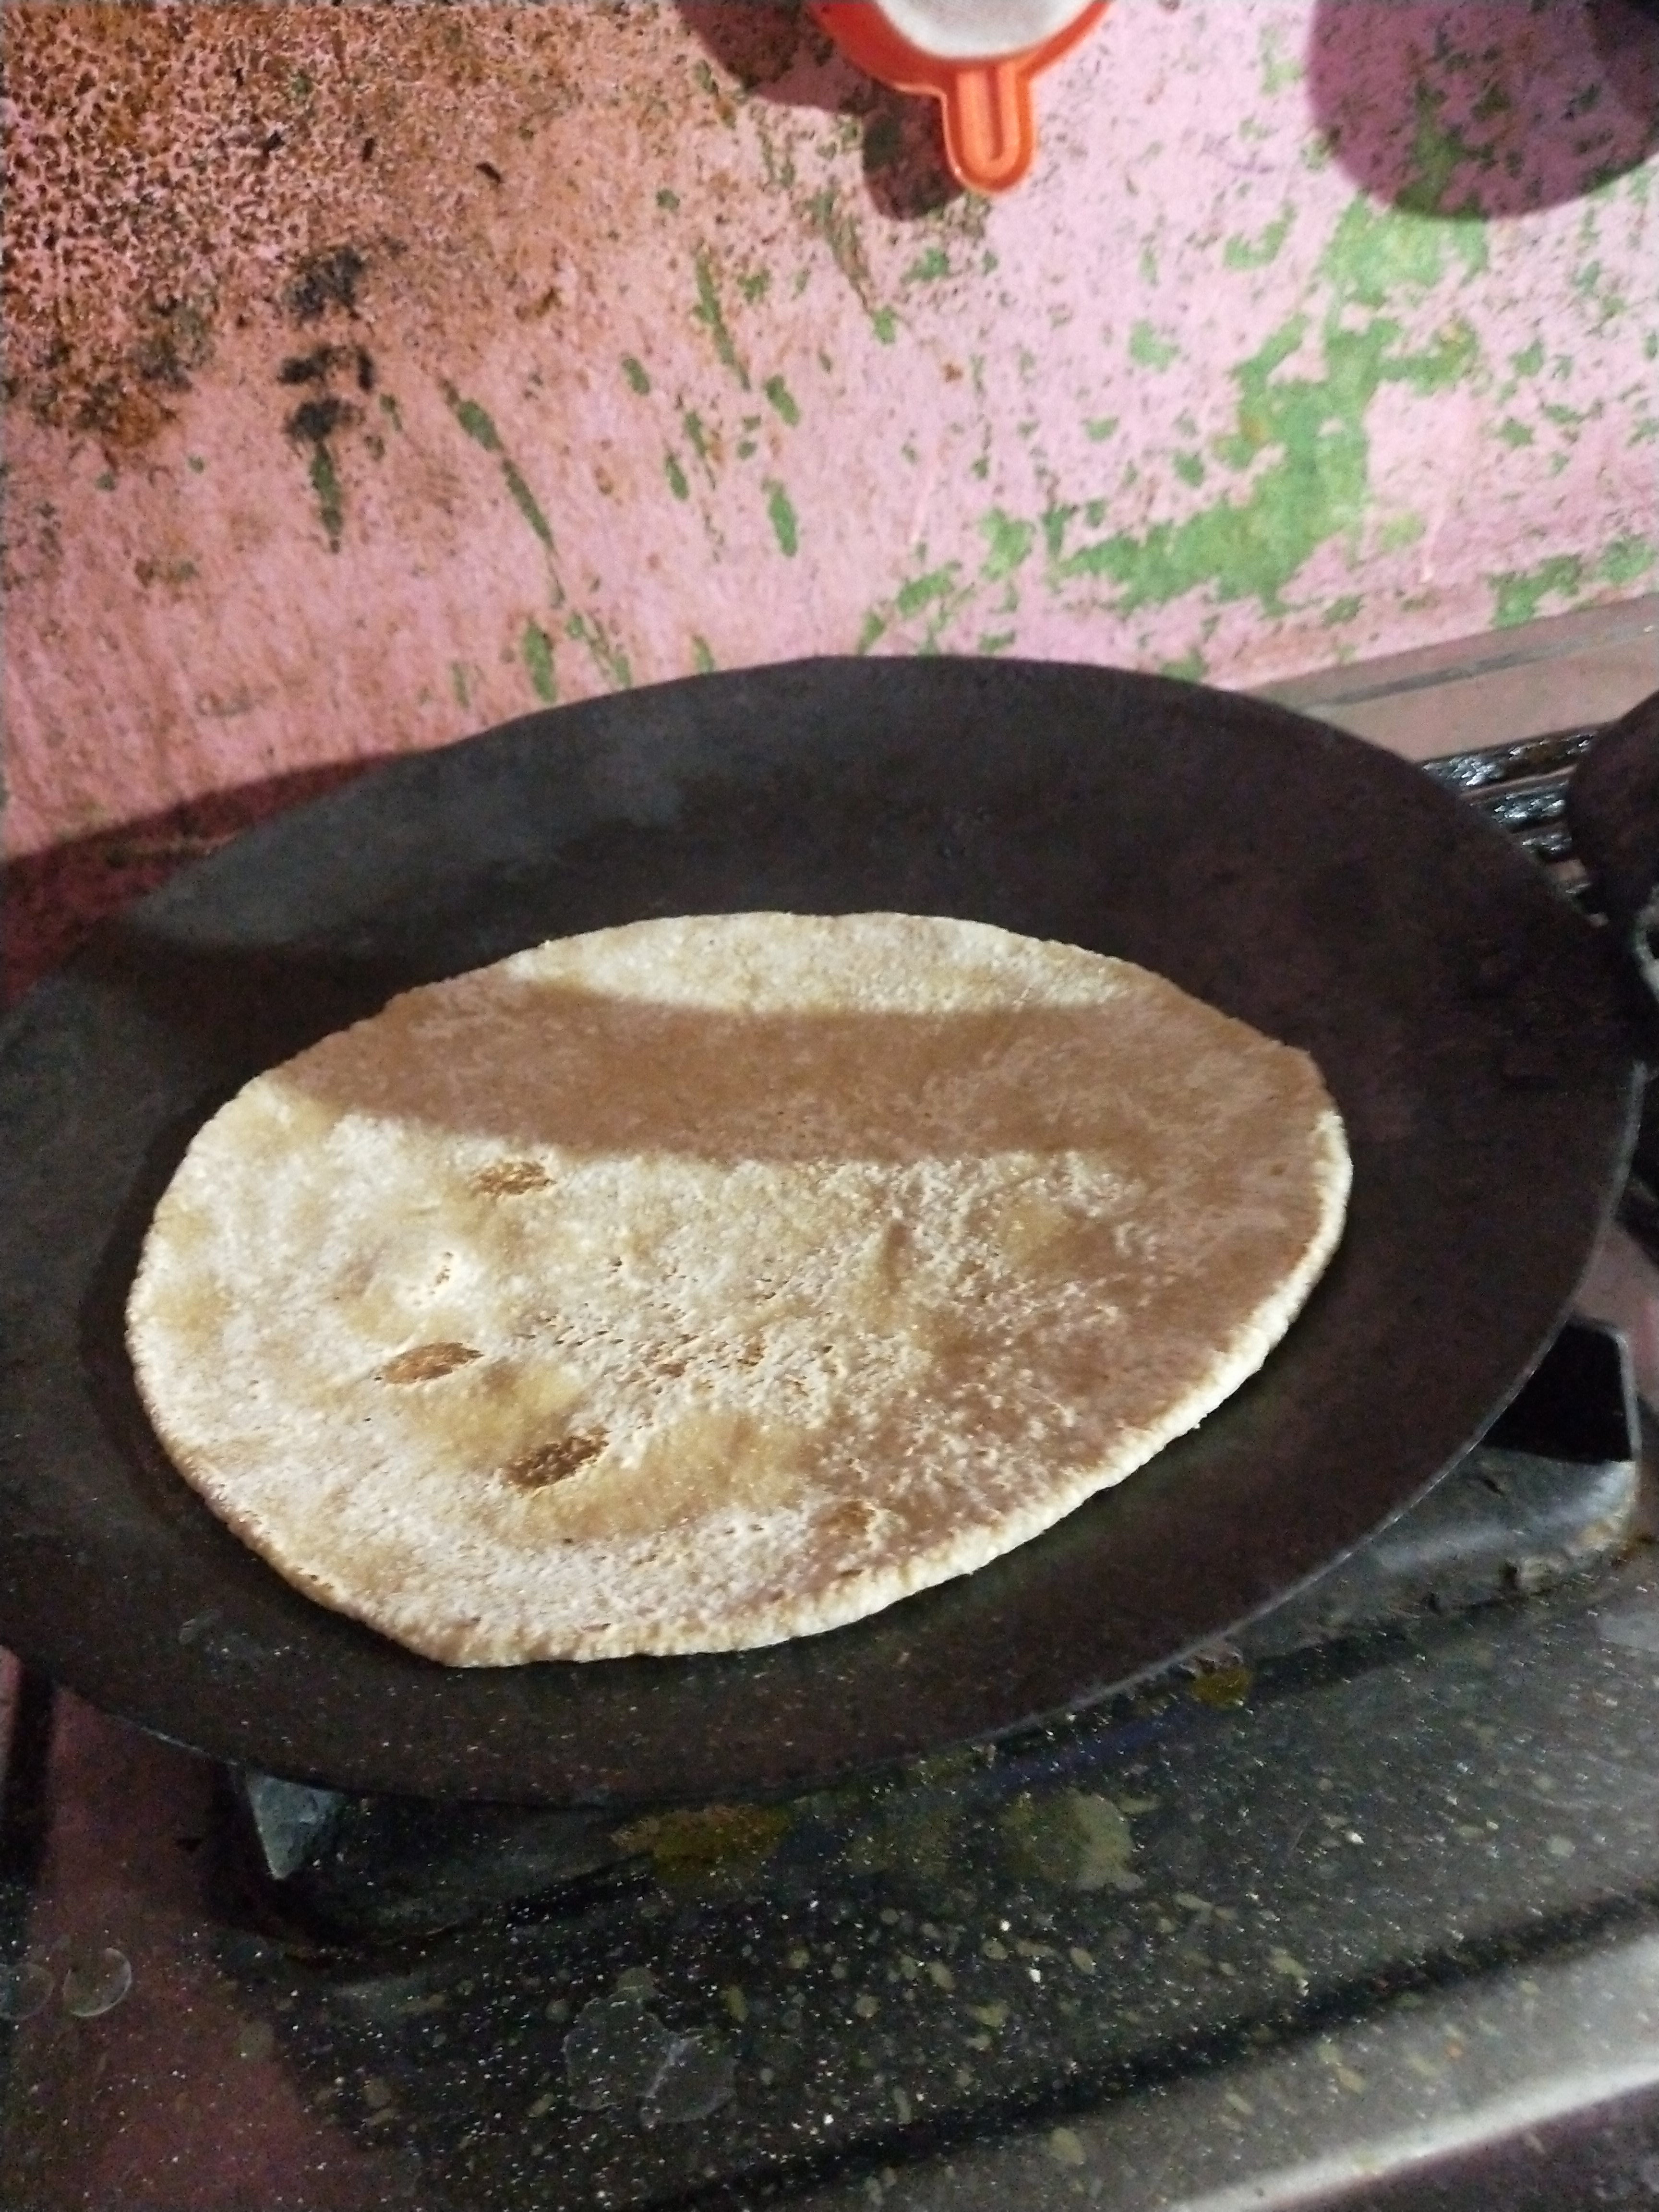food: (106, 895, 1365, 1683)
